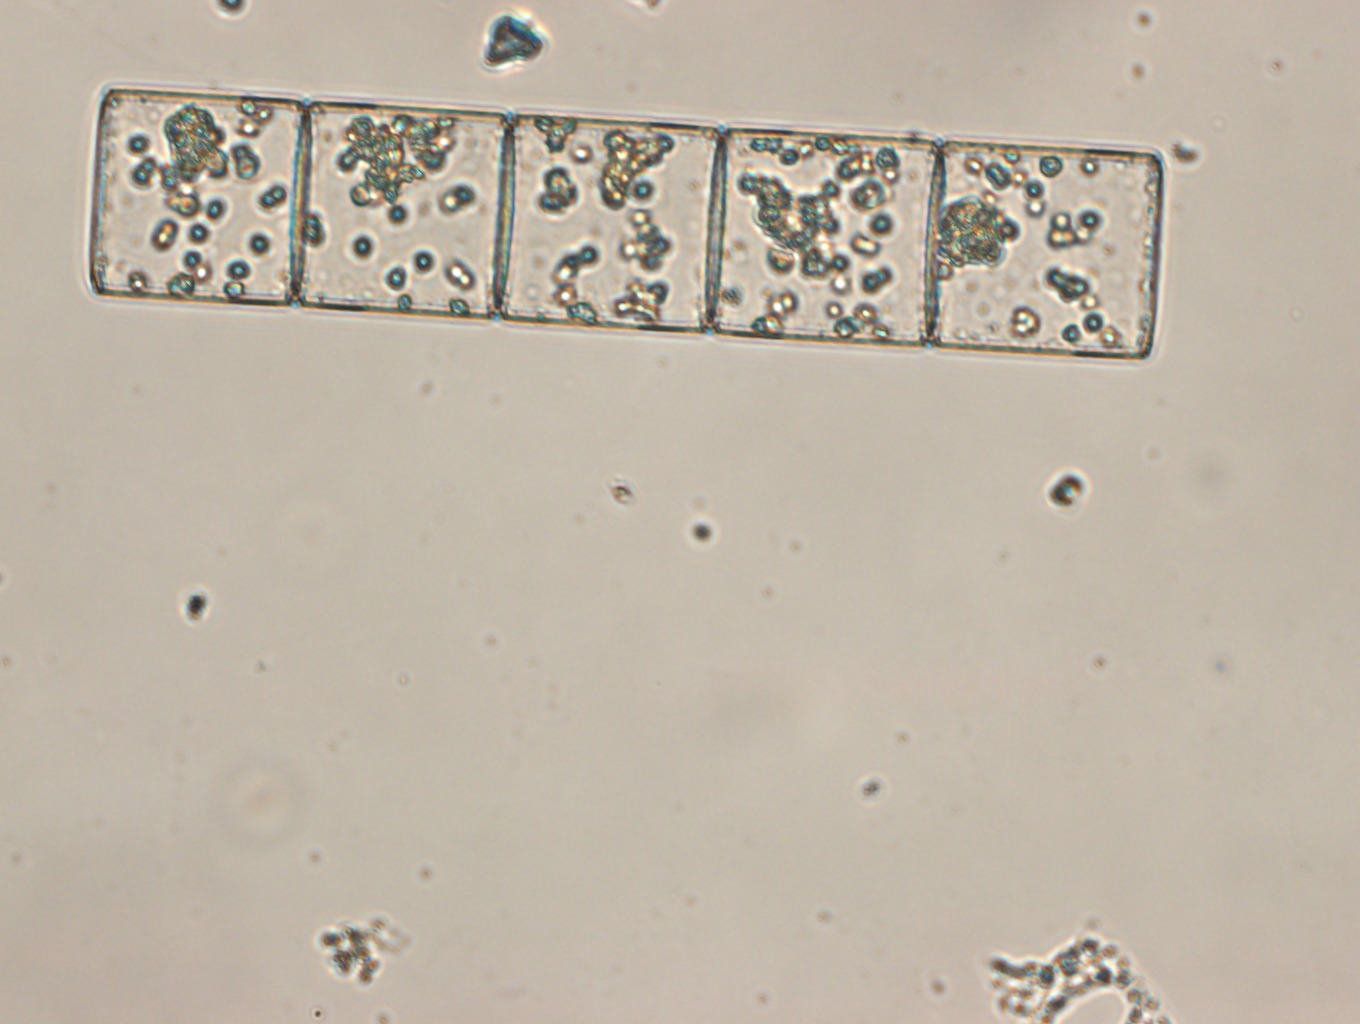guinardia flaccida: (85, 81, 1166, 362)
